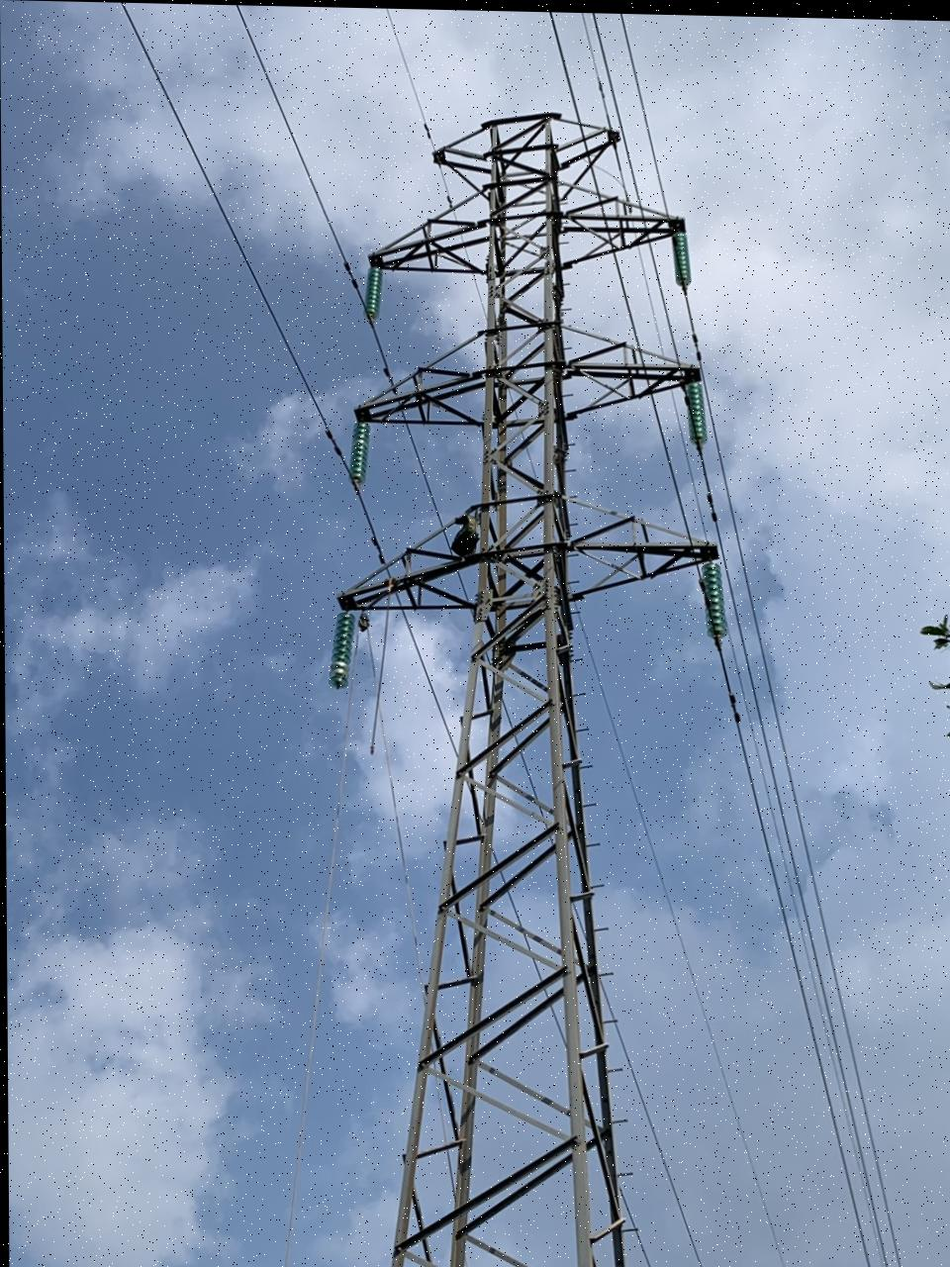tower: (320, 79, 750, 1267)
